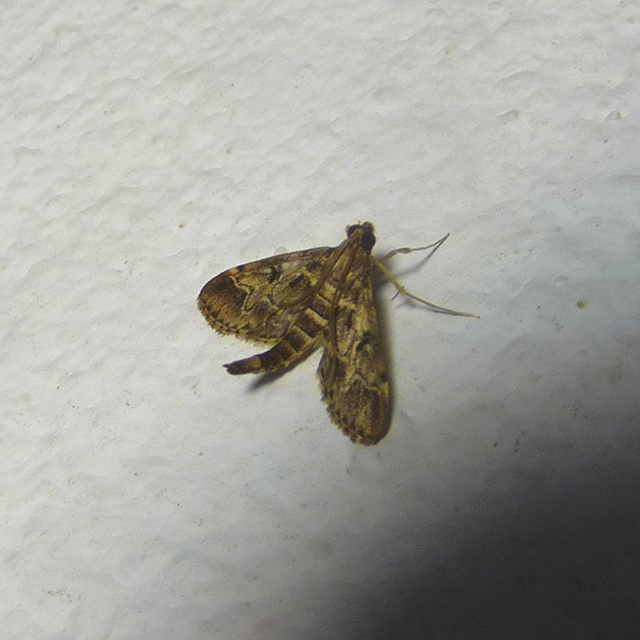Moths and butterflies: (192, 218, 470, 448)
